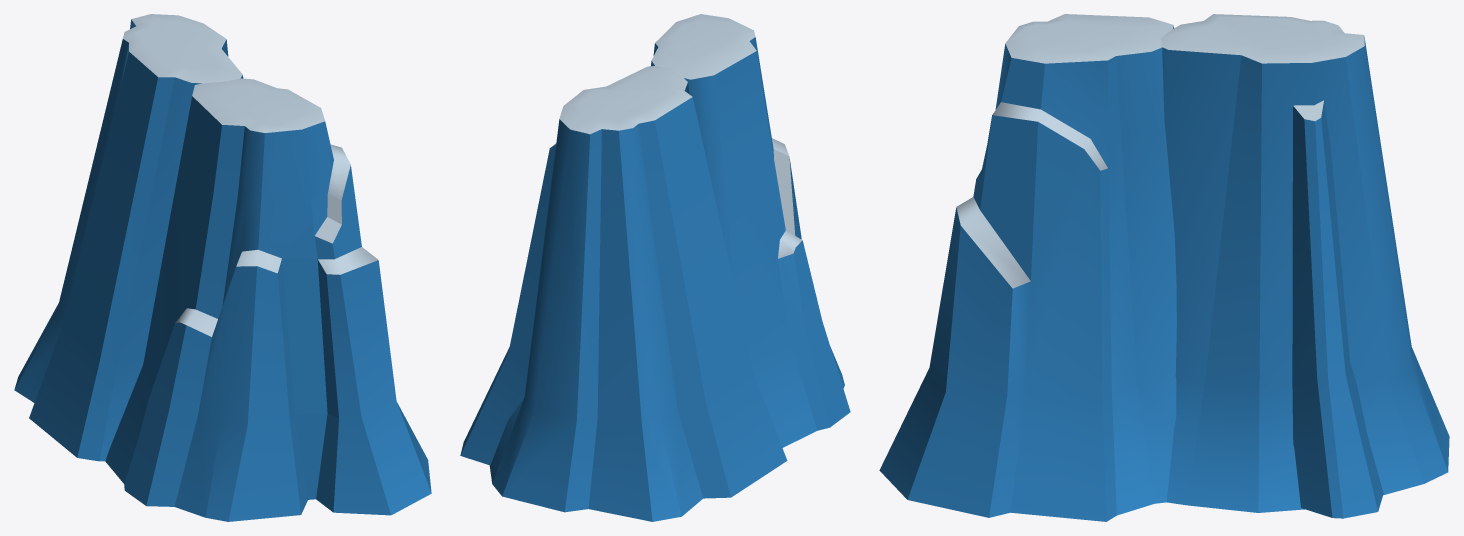
Rendered from mdl_iceCliff04.fbx.
The picture shows the model from 3 angles, left to right: view 1: azimuth 30°, elevation 25°; view 2: azimuth 150°, elevation 25°; view 3: azimuth 270°, elevation 25°; orthographic projection. The views are drawn at different scales.
Visible parts, largest first — view 1: mdl_iceCliff07; view 2: mdl_iceCliff07; view 3: mdl_iceCliff07.
Boxes of the visible parts, x1,y1,x2,y2 form: mdl_iceCliff07: (14, 14, 431, 521); mdl_iceCliff07: (460, 14, 850, 521); mdl_iceCliff07: (879, 14, 1449, 521).
Bounding box in the file's own units: 247 × 315 × 395.
Materials: 1 (1 with a texture image).
